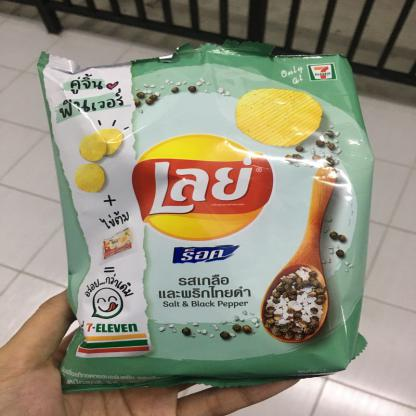potatochip: (32, 43, 371, 393)
